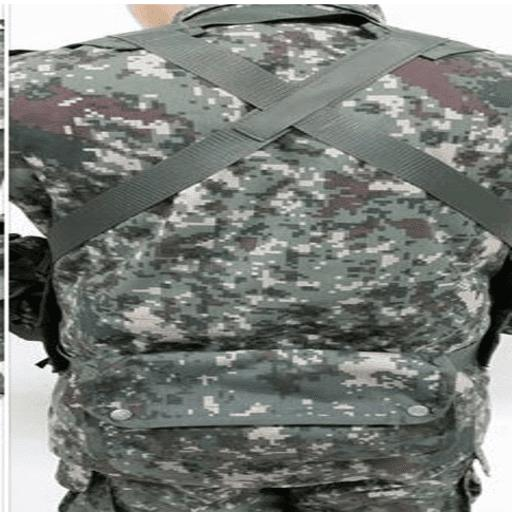korea army: (6, 2, 511, 511)
